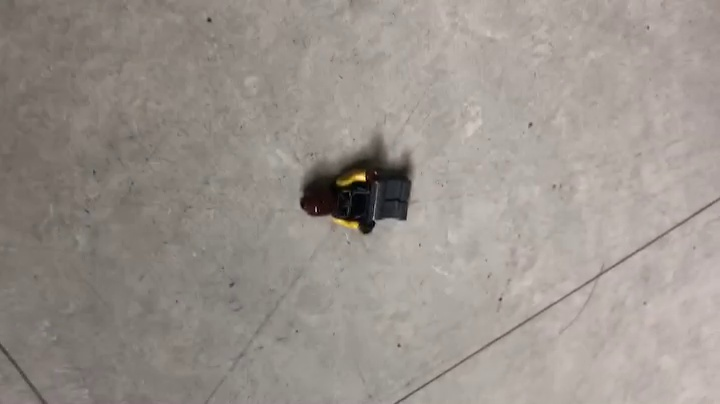people: (299, 162, 414, 234)
